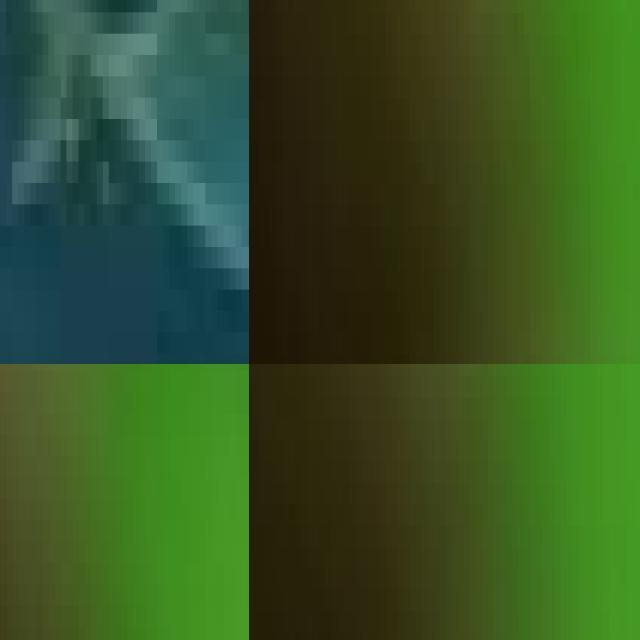fish: (0, 0, 249, 364), (0, 364, 212, 640)
